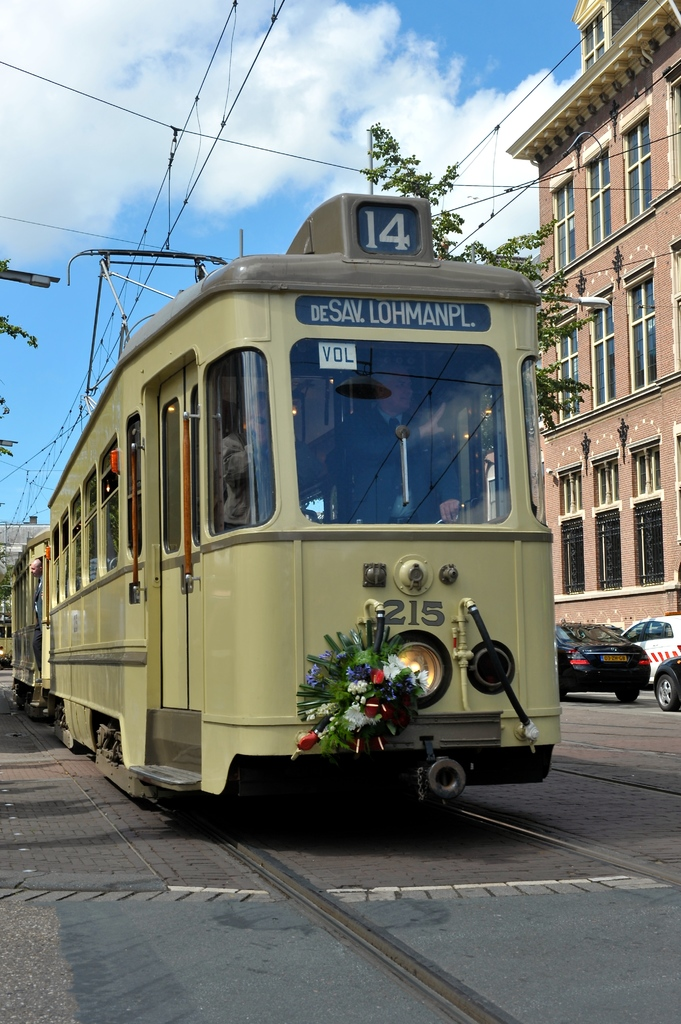train: (9, 189, 567, 798)
